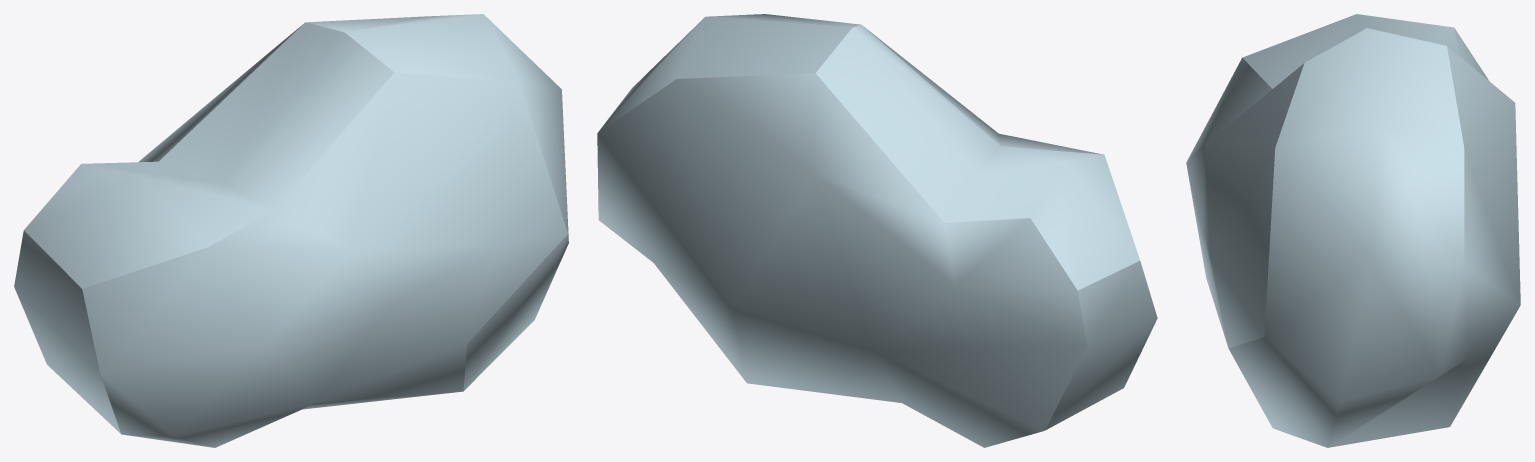
Rendered from cloud.fbx.
3 renders of one model, left to right at view 1: azimuth 30°, elevation 25°; view 2: azimuth 150°, elevation 25°; view 3: azimuth 270°, elevation 25°, orthographic. The views are drawn at different scales.
Parts seen in each view (by area): view 1: pasted__pCube2; view 2: pasted__pCube2; view 3: pasted__pCube2.
Part boxes in pixels (left/top/right/bottom): pasted__pCube2: left=14, top=14, right=568, bottom=447; pasted__pCube2: left=597, top=14, right=1157, bottom=447; pasted__pCube2: left=1186, top=14, right=1520, bottom=447.
Bounding box in the file's own units: 1.79 × 1.2 × 0.9744.
